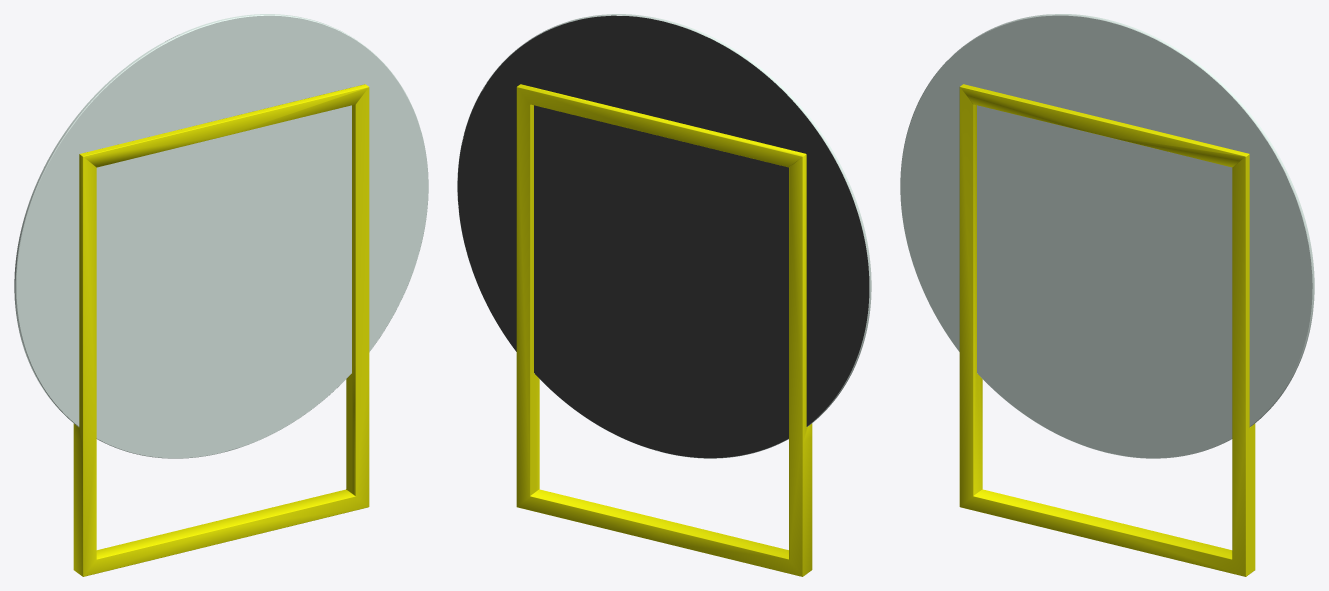
File: designconnected-reunion-mirror-10451.optimized.glb
3 views of the same model, side by side, from view 1: azimuth 30°, elevation 25°; view 2: azimuth 150°, elevation 25°; view 3: azimuth 330°, elevation 25° (orthographic).
Parts seen in each view (by area): view 1: Ligne_Roset_Reunion; view 2: Ligne_Roset_Reunion; view 3: Ligne_Roset_Reunion.
Part boxes in pixels (bbox=[...]): Ligne_Roset_Reunion: bbox=[14, 14, 428, 576]; Ligne_Roset_Reunion: bbox=[457, 14, 871, 576]; Ligne_Roset_Reunion: bbox=[900, 14, 1314, 576].
Size of the model in its own units: 0.75 by 0.9 by 0.03.
